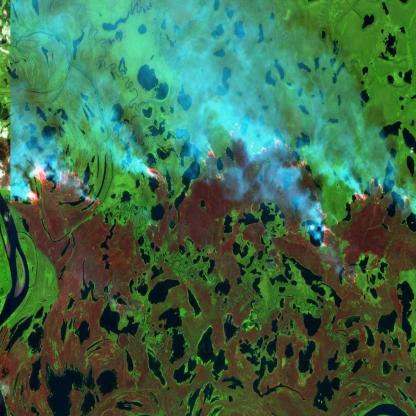fire: (0, 128, 416, 260)
